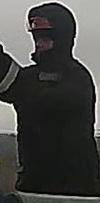helmet: (25, 11, 56, 35)
vest: (1, 57, 97, 187)
